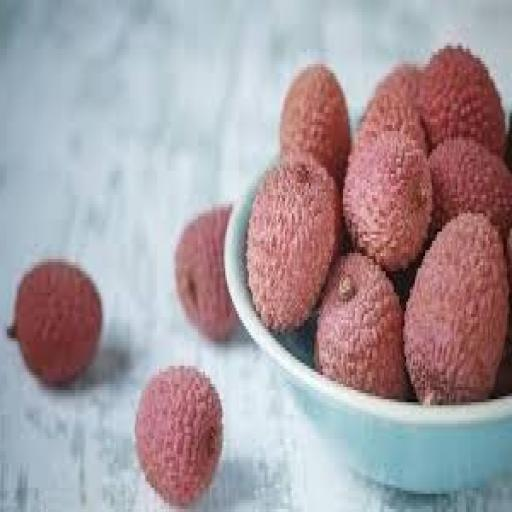lychee: (404, 214, 507, 405), (245, 153, 340, 332), (314, 253, 405, 399), (134, 366, 222, 505), (343, 132, 430, 271), (8, 263, 101, 383), (418, 46, 504, 155), (428, 138, 511, 237), (279, 64, 348, 182), (175, 208, 236, 341), (351, 92, 425, 152), (375, 64, 420, 106), (505, 113, 511, 170)
